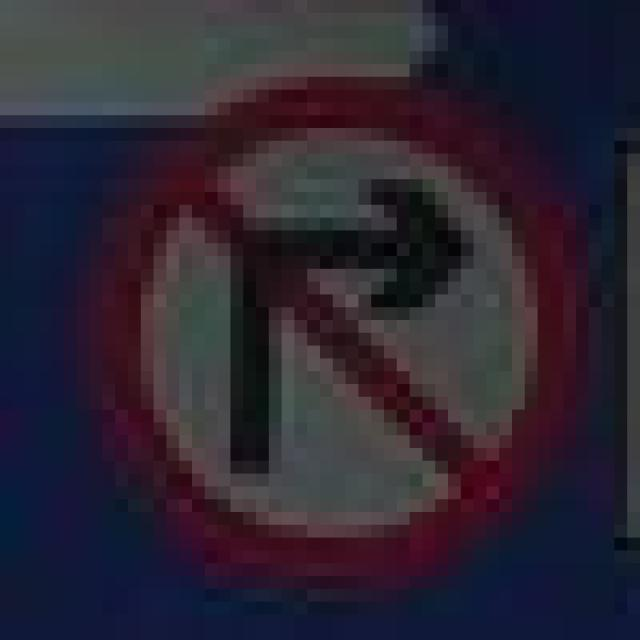right turn prohibited: (87, 78, 576, 587)
